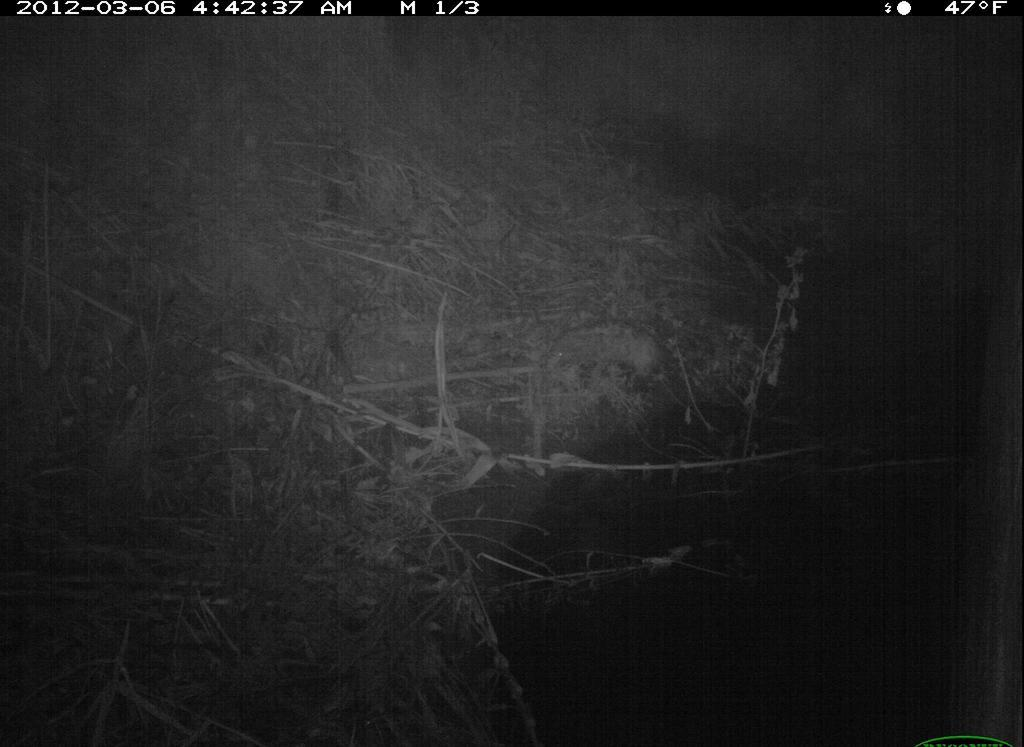opossum: (523, 319, 667, 399)
